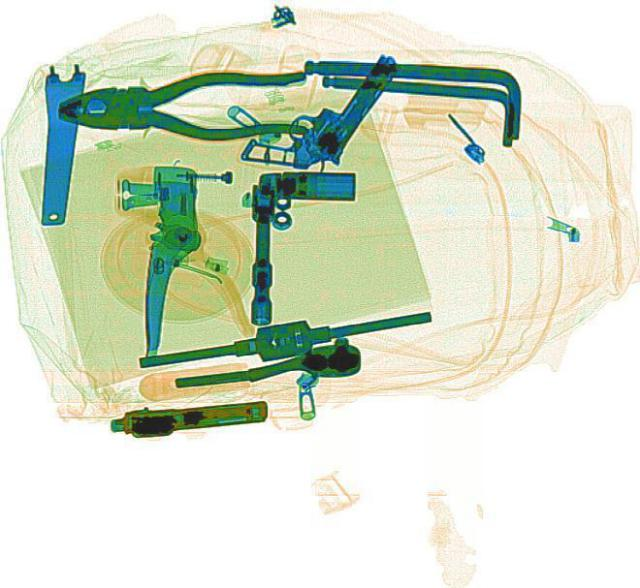Gun: (238, 25, 404, 192), (105, 394, 267, 437)
Pliers: (53, 67, 304, 142)
